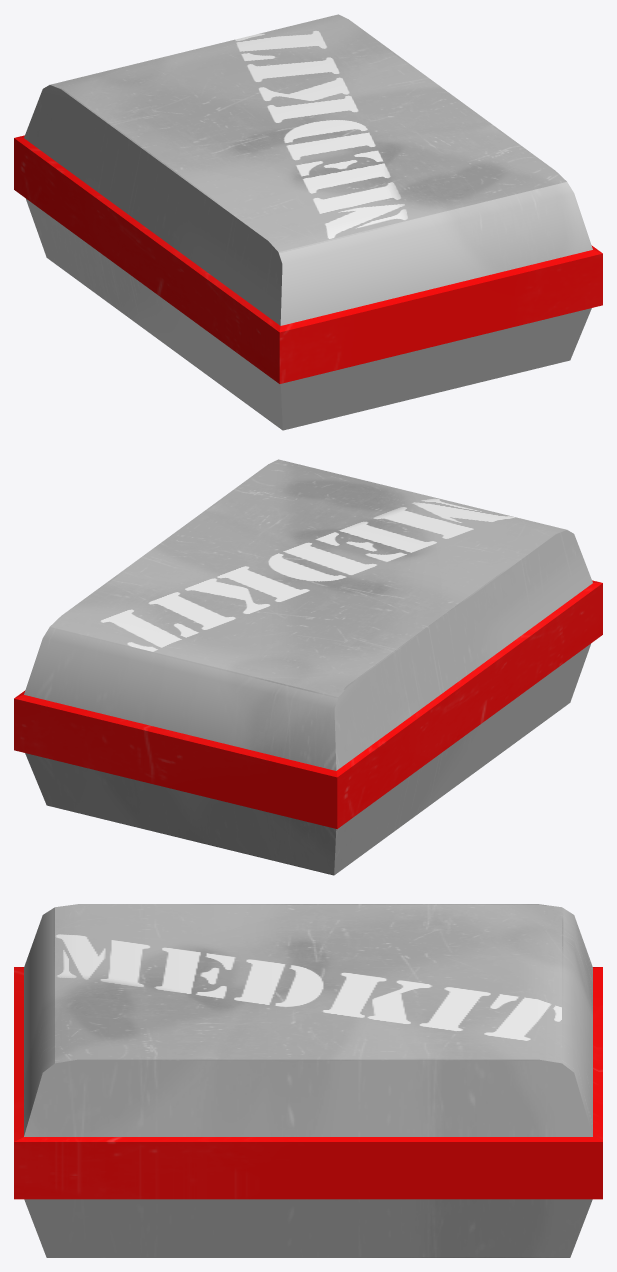
File: medkit.fbx
3 views of the same model, one above another, from view 1: azimuth 30°, elevation 25°; view 2: azimuth 150°, elevation 25°; view 3: azimuth 270°, elevation 25° (orthographic). The views are drawn at different scales.
Visible parts, largest first — view 1: Cube; view 2: Cube; view 3: Cube.
Part boxes in pixels (x1=…): Cube: x1=14, y1=14, x2=602, y2=430; Cube: x1=14, y1=459, x2=602, y2=875; Cube: x1=14, y1=904, x2=602, y2=1257.
Size of the model in its own units: 100 by 53.08 by 143.
Materials: 2 (2 with a texture image).
